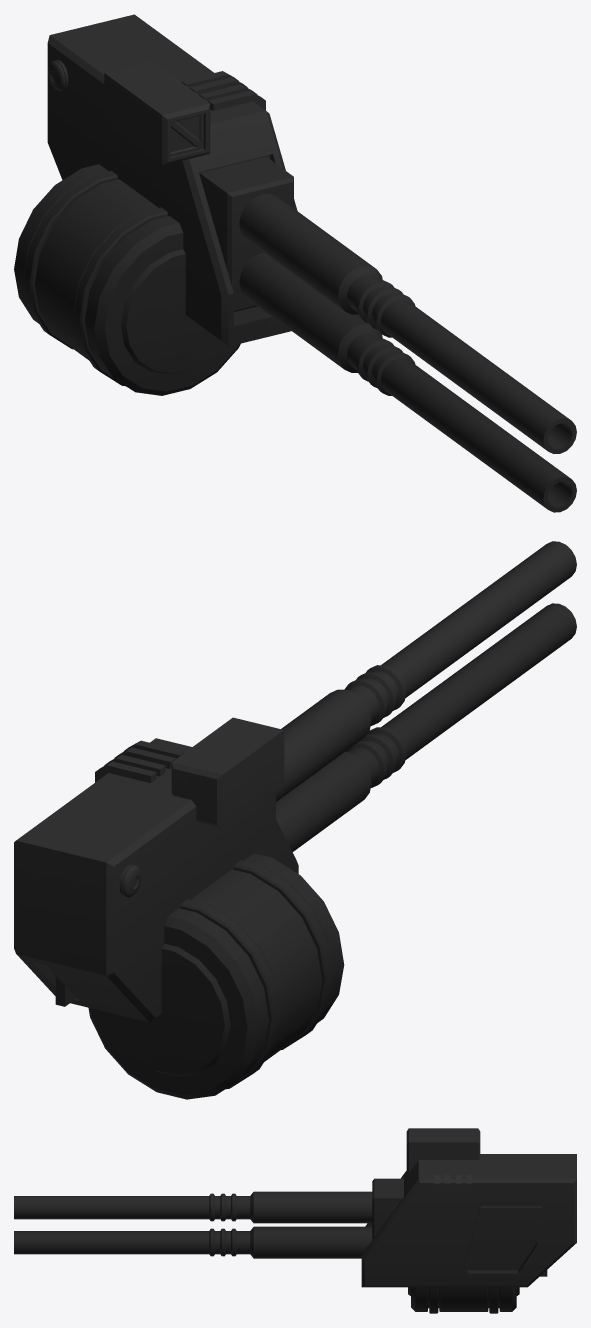
File: autocannon_r.glb
The picture shows the model from 3 angles, top to bottom: view 1: azimuth 30°, elevation 25°; view 2: azimuth 150°, elevation 25°; view 3: azimuth 270°, elevation 25°; orthographic projection. The views are drawn at different scales.
Visible parts, largest first — view 1: Battle_mech_03_R_weapon_poly; view 2: Battle_mech_03_R_weapon_poly; view 3: Battle_mech_03_R_weapon_poly.
Boxes of the visible parts, bbox=[...] form: Battle_mech_03_R_weapon_poly: bbox=[14, 14, 576, 512]; Battle_mech_03_R_weapon_poly: bbox=[14, 541, 576, 1099]; Battle_mech_03_R_weapon_poly: bbox=[14, 1128, 576, 1313].
Size of the model in its own units: 1.09 by 1.59 by 4.67.
1 material, 1 textured.
